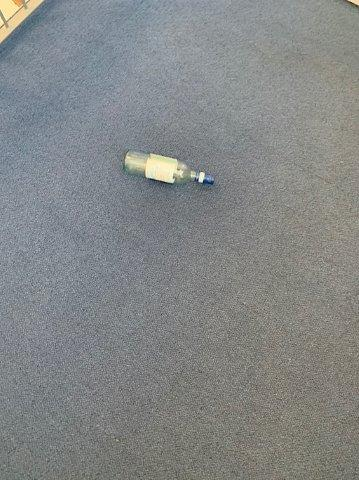botolkaca: (122, 150, 215, 188)
